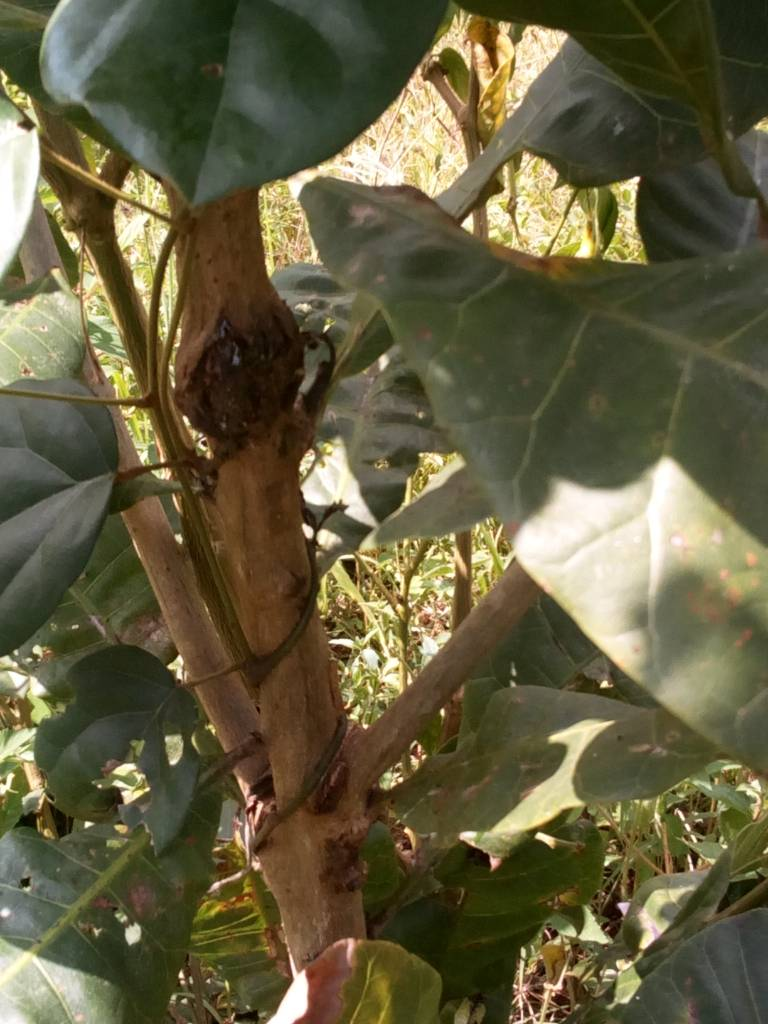Rouille: (297, 146, 768, 774)
